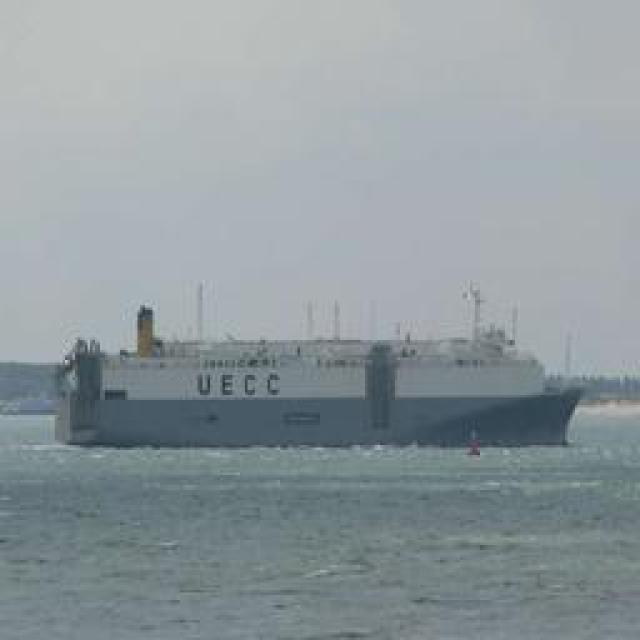CIV_Ship: (54, 324, 576, 448)
